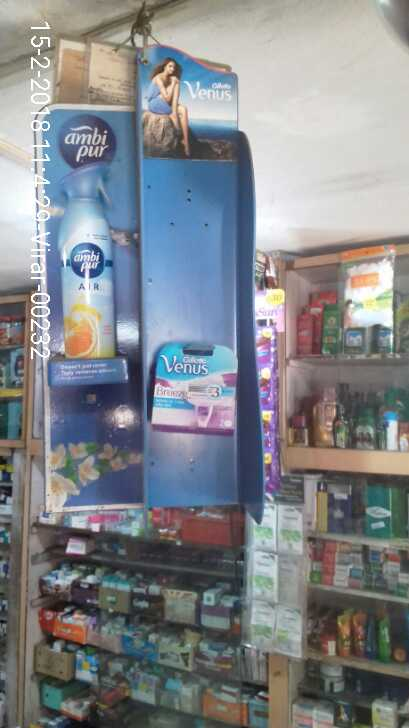beauty: (142, 328, 238, 437)
home: (54, 159, 122, 356)
